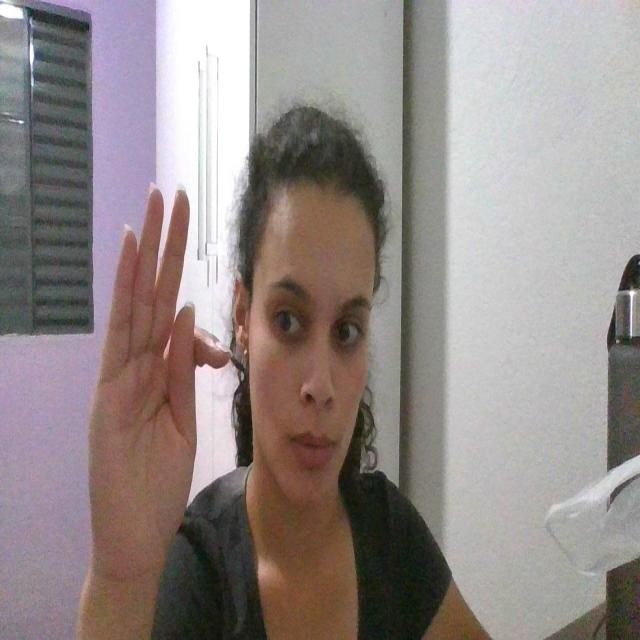T: (90, 179, 233, 556)
